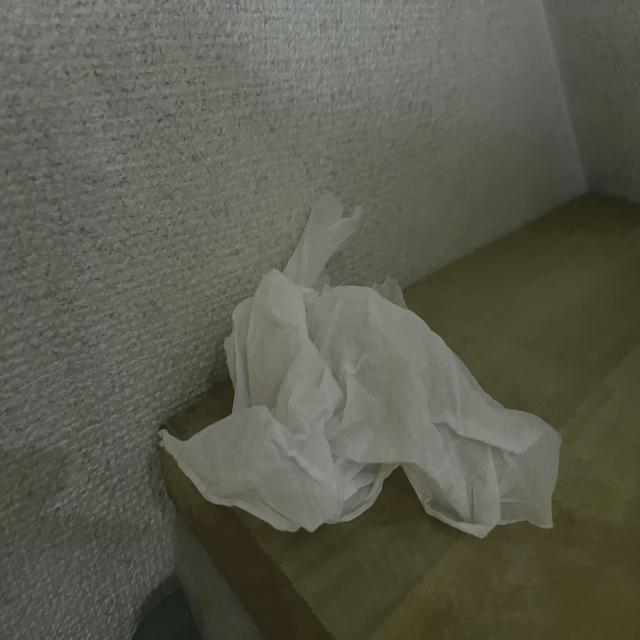Paper: (148, 189, 576, 544)
